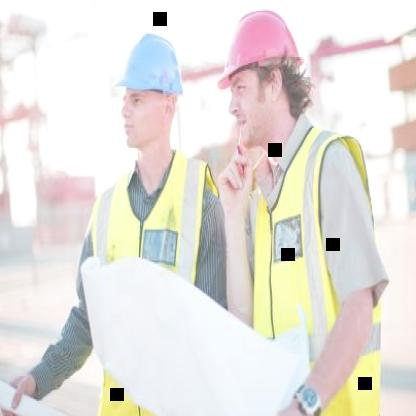helmet: (216, 1, 310, 152), (107, 19, 196, 170)
